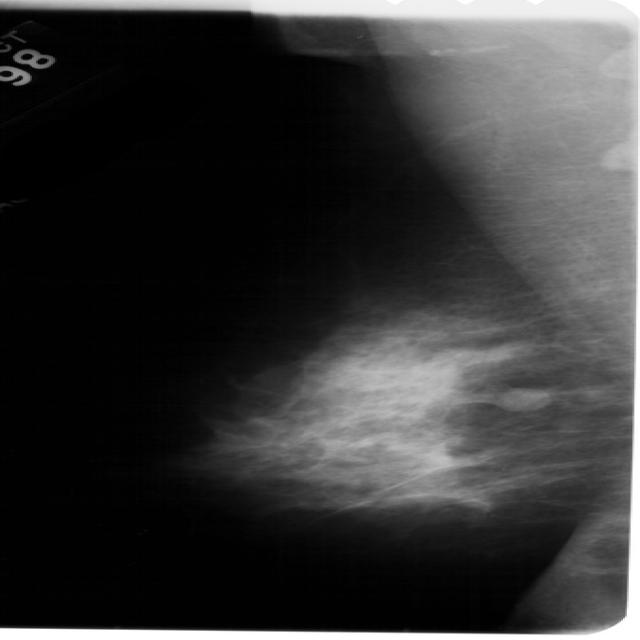tumour: (489, 385, 551, 410)
